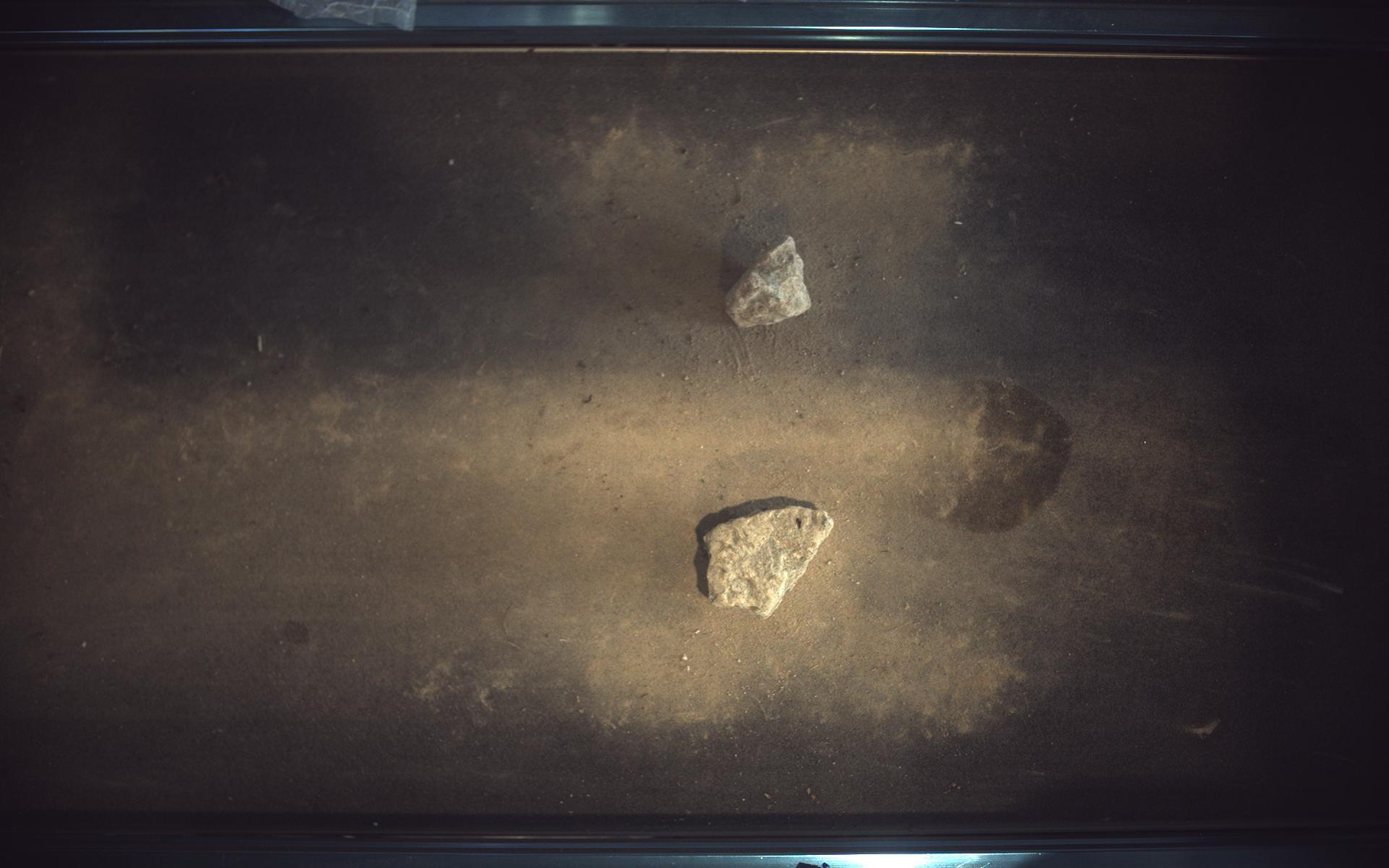stone: (695, 496, 835, 618), (726, 236, 812, 328)
